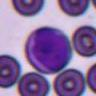L: (24, 26, 70, 74)
